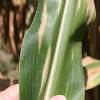Corn leaf blight: (21, 1, 95, 93)
